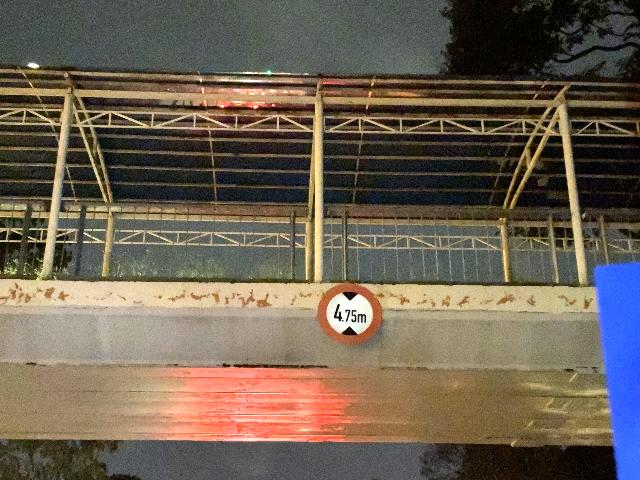han-che-chieu-cao: (318, 283, 383, 345)
